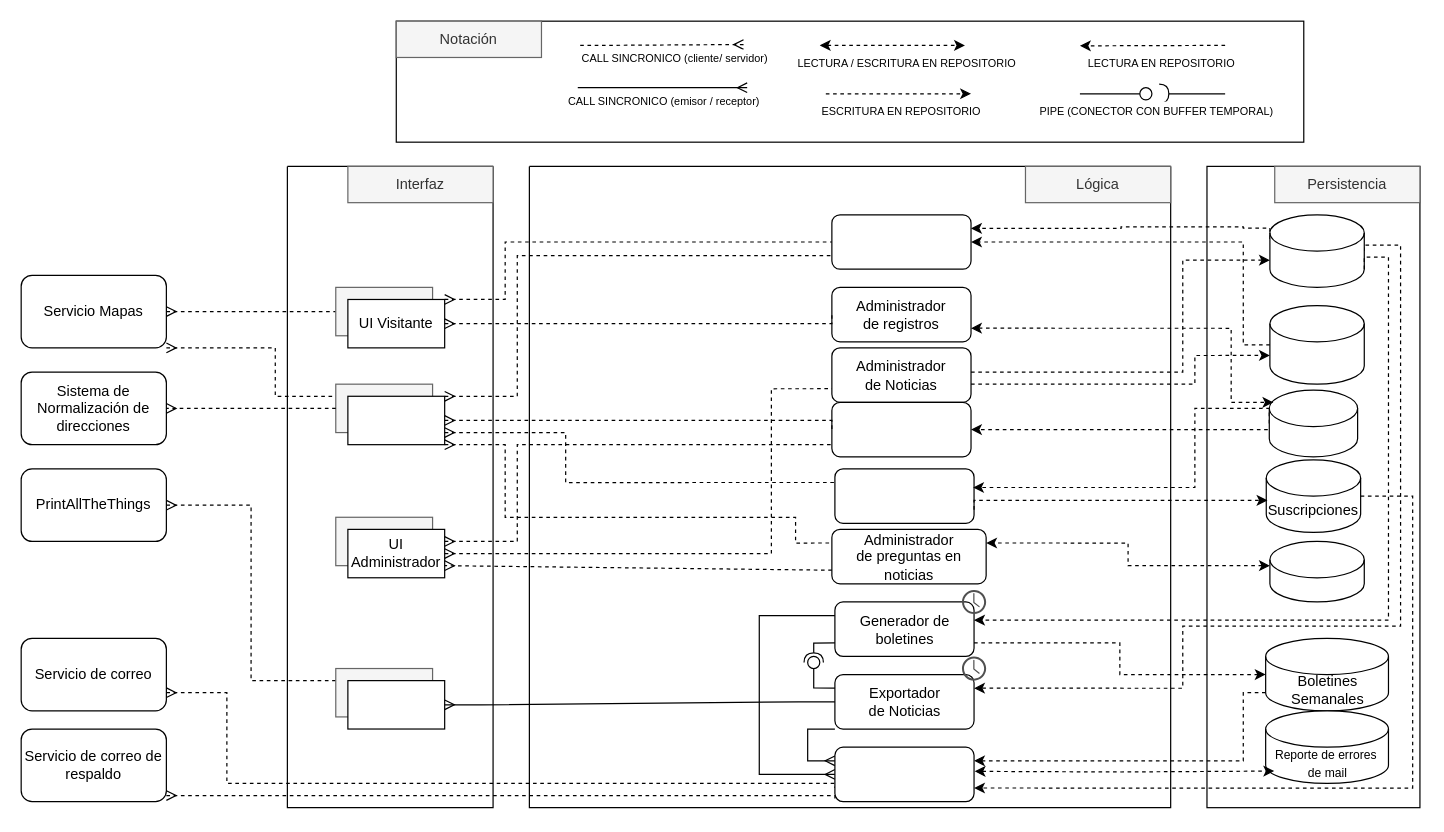
The diagram is 1444 pixels wide and 832 high, and some of its shapes have lost their labels. Each missing label, with the centre of its shape:
"Administrador de Acceso" goes at (901,429).
"Administrador de Búsqueda" goes at (901,241).
"Administrador de Notificaciones" goes at (904,774).
"Administrador de suscripciones" goes at (904,495).
"Imagenes" goes at (1316,344).
"Interfaz de Comunicación" goes at (396,704).
"Noticias" goes at (1316,250).
"Preguntas" goes at (1316,571).
"UI Vecino" goes at (396,420).
"Vecinos" goes at (1313,423).
